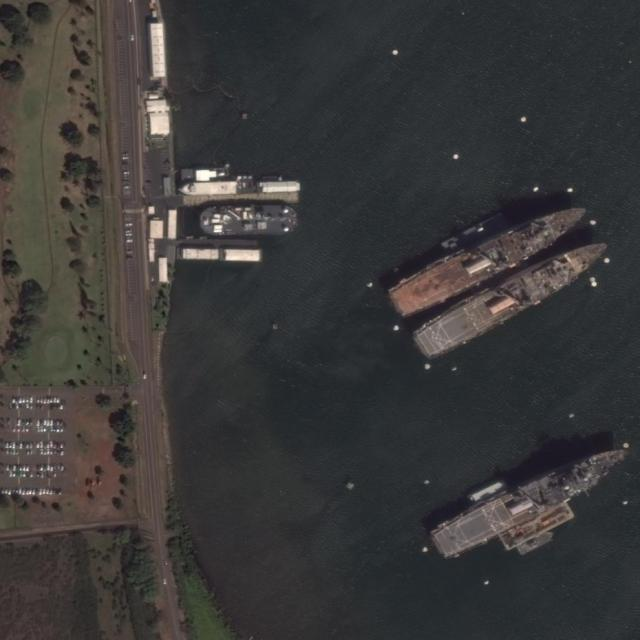Landing: (408, 232, 619, 364), (427, 434, 637, 562), (383, 195, 596, 320)
Other Ship: (200, 207, 300, 236), (515, 530, 554, 557)
